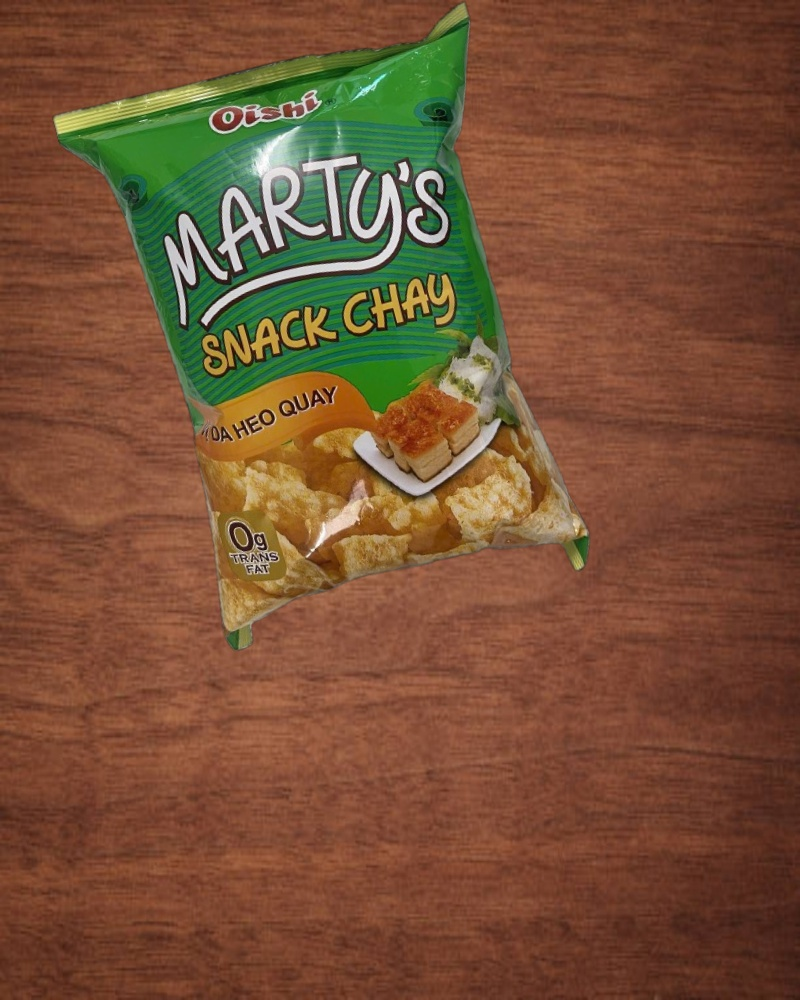Snack chay: (52, 1, 616, 672)
